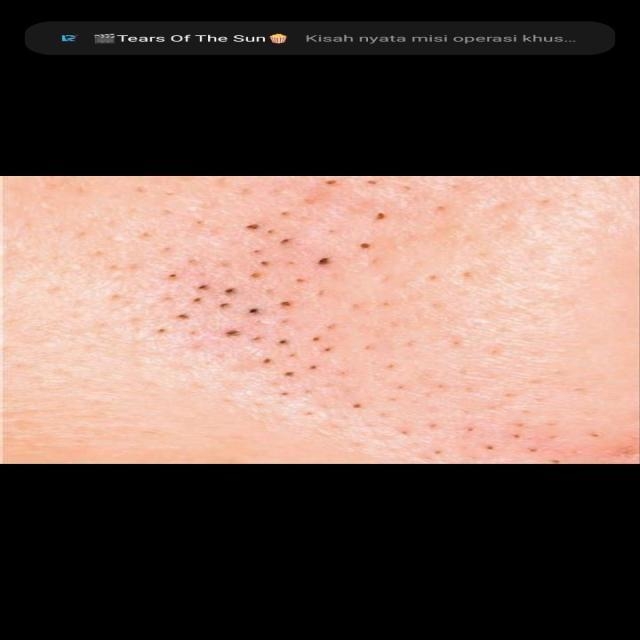blackhead: (111, 197, 438, 443)
